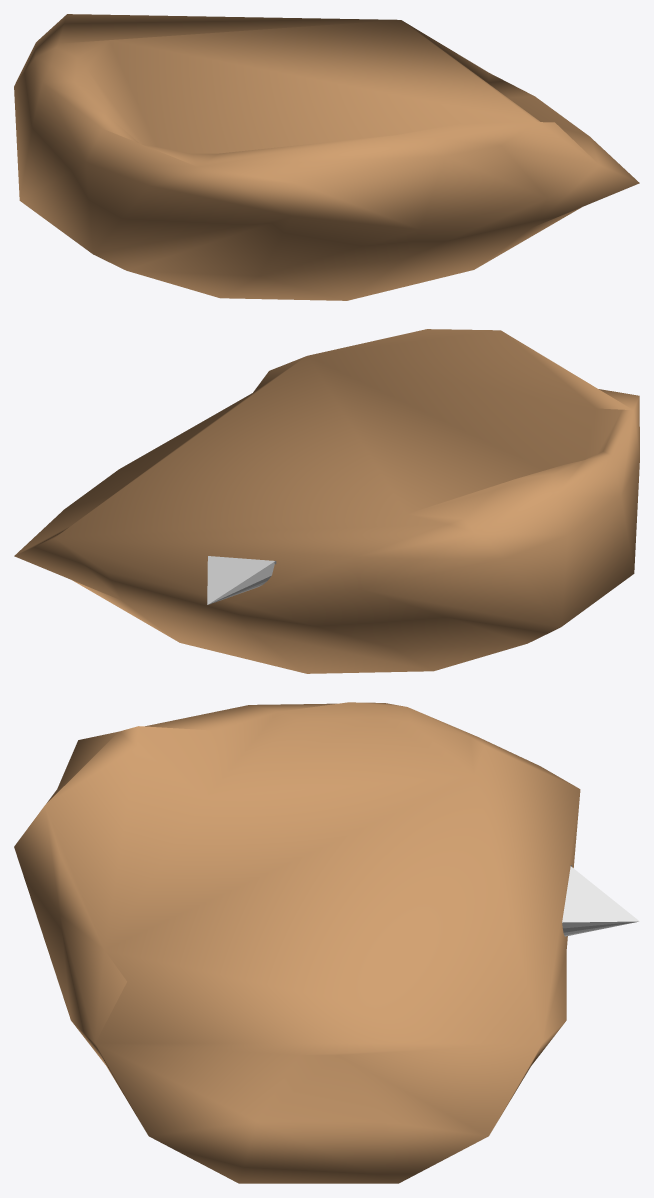
Rendered from cookie8.glb.
The picture shows the model from 3 angles, top to bottom: view 1: azimuth 30°, elevation 25°; view 2: azimuth 150°, elevation 25°; view 3: azimuth 270°, elevation 25°; orthographic projection. The views are drawn at different scales.
Parts seen in each view (by area): view 1: Mball.001; view 2: Mball.001, Cone.009; view 3: Mball.001, Cone.009.
Part boxes in pixels (x1,y1,x2,y2): Mball.001: [14, 14, 639, 300]; Mball.001: [14, 329, 639, 673]; Cone.009: [207, 556, 276, 604]; Mball.001: [14, 702, 580, 1183]; Cone.009: [562, 865, 639, 936].
Bounding box in the file's own units: 1.6 × 0.7119 × 1.52.
